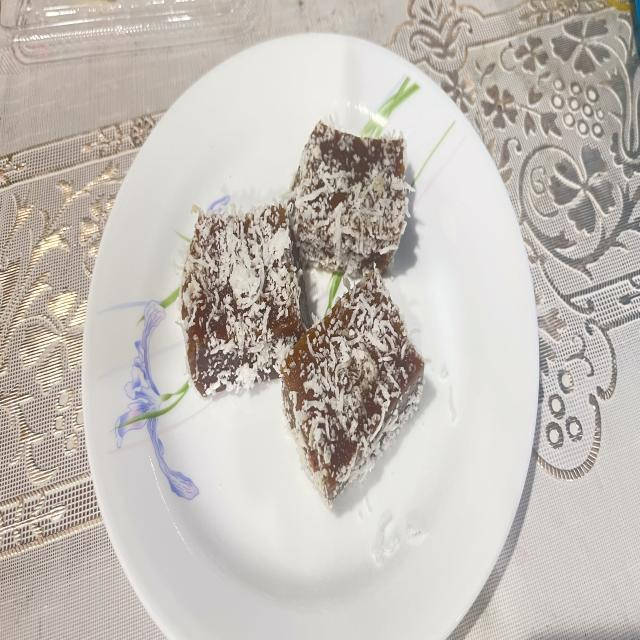kaswi: (281, 269, 424, 507), (180, 204, 309, 396), (288, 122, 410, 278)
